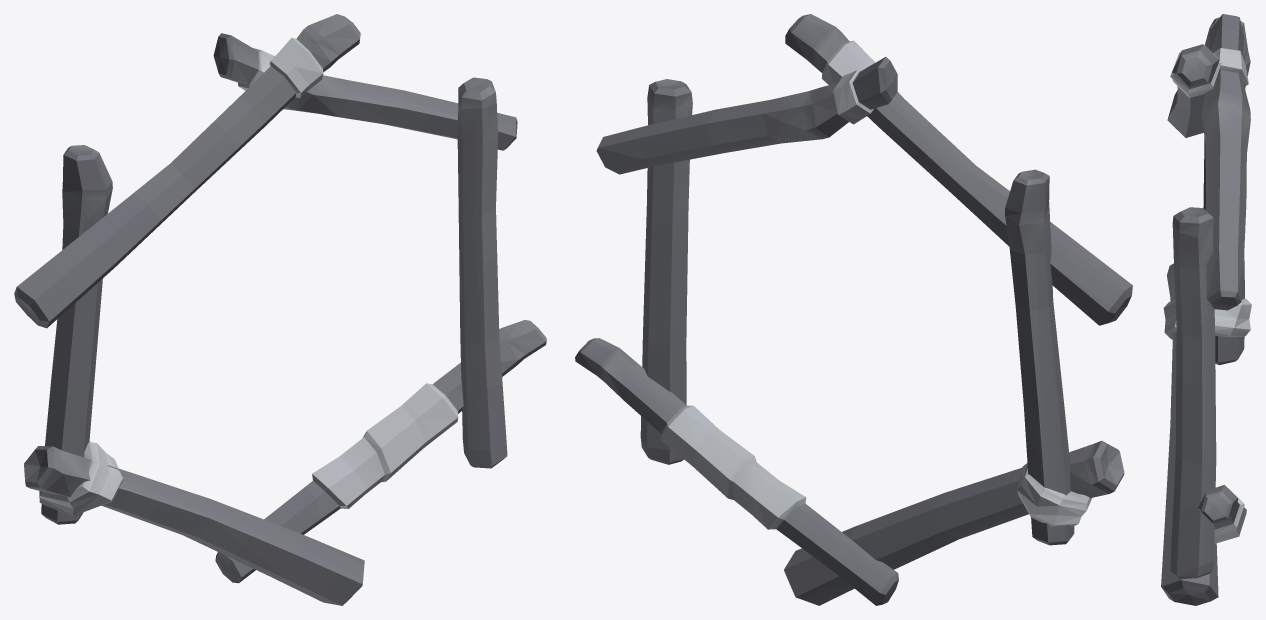
Rendered from CharSkyKid_Prop_AP10Hoop_01.glb.
3 renders of one model, left to right at view 1: azimuth 30°, elevation 25°; view 2: azimuth 150°, elevation 25°; view 3: azimuth 270°, elevation 25°, orthographic. The views are drawn at different scales.
Parts seen in each view (by area): view 1: CharSkyKid_Prop_AP10Hoop_01; view 2: CharSkyKid_Prop_AP10Hoop_01; view 3: CharSkyKid_Prop_AP10Hoop_01.
Boxes of the visible parts, x1,y1,x2,y2 form: CharSkyKid_Prop_AP10Hoop_01: (14, 14, 546, 605); CharSkyKid_Prop_AP10Hoop_01: (575, 14, 1132, 605); CharSkyKid_Prop_AP10Hoop_01: (1161, 14, 1251, 605).
Bounding box in the file's own units: 4.61 × 4.8 × 0.7062.
Materials: 1 (1 with a texture image).
